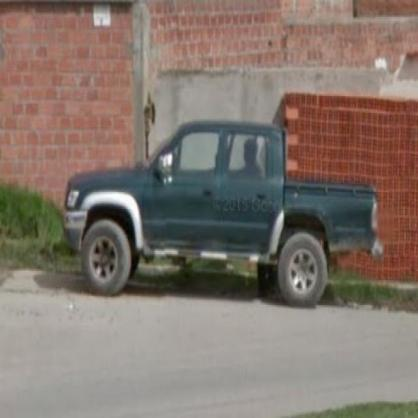car: (64, 120, 383, 310)
